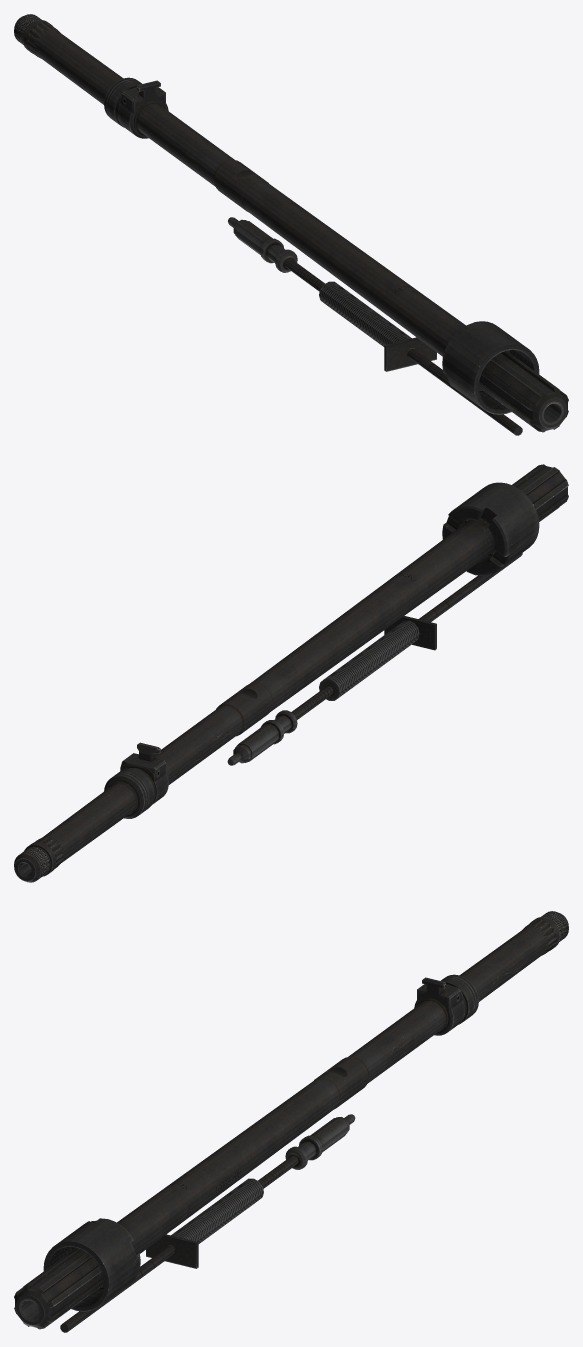
The picture shows the model from 3 angles, top to bottom: view 1: azimuth 30°, elevation 25°; view 2: azimuth 150°, elevation 25°; view 3: azimuth 330°, elevation 25°; orthographic projection.
Visible parts, largest first — view 1: TW_622b38c56762c718e457e246_PZ_Import; view 2: TW_622b38c56762c718e457e246_PZ_Import; view 3: TW_622b38c56762c718e457e246_PZ_Import.
Boxes of the visible parts, x1,y1,x2,y2 form: TW_622b38c56762c718e457e246_PZ_Import: (14,14,568,435); TW_622b38c56762c718e457e246_PZ_Import: (14,464,568,882); TW_622b38c56762c718e457e246_PZ_Import: (14,911,568,1332).
Bounding box in the file's own units: 0.0202 × 0.2821 × 0.0265.
1 material, 1 textured.
